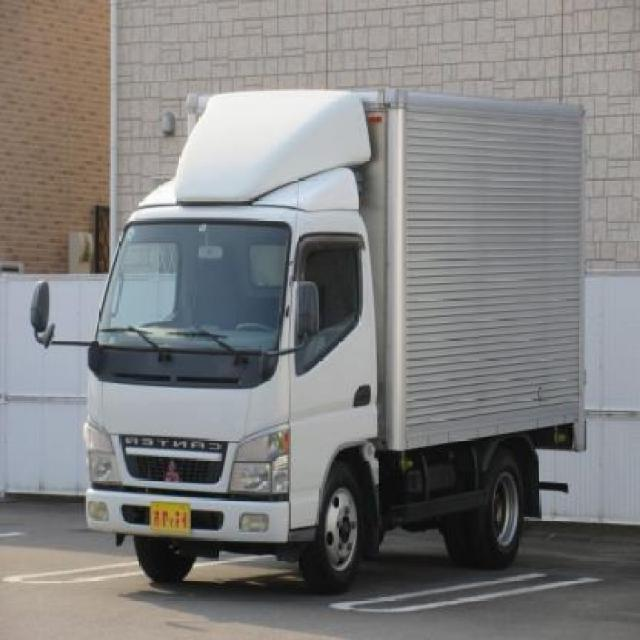truck: (33, 96, 591, 591)
